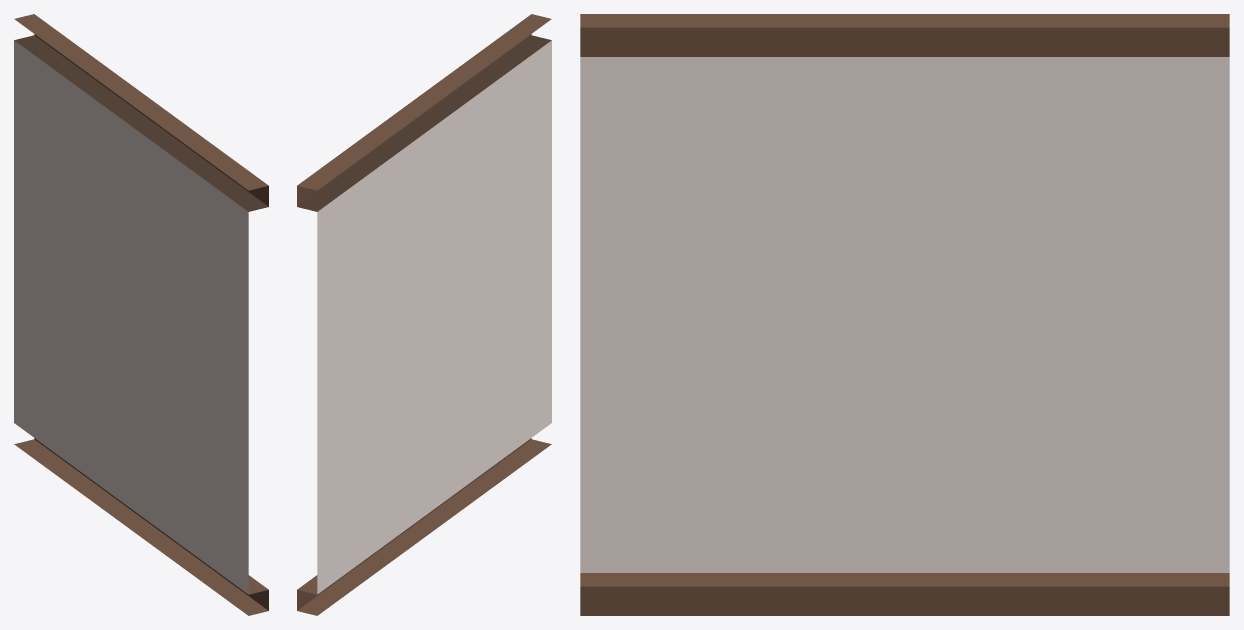
The model's file is basic_wall_001.fbx.
3 views of the same model, side by side, from view 1: azimuth 30°, elevation 25°; view 2: azimuth 150°, elevation 25°; view 3: azimuth 270°, elevation 25° (orthographic). The views are drawn at different scales.
Parts seen in each view (by area): view 1: Base_Wall.001; view 2: Base_Wall.001; view 3: Base_Wall.001.
Part boxes in pixels (bbox=[...]): Base_Wall.001: bbox=[14, 14, 268, 615]; Base_Wall.001: bbox=[297, 14, 551, 615]; Base_Wall.001: bbox=[580, 14, 1229, 615].
Bounding box in the file's own units: 200 × 10 × 200.
